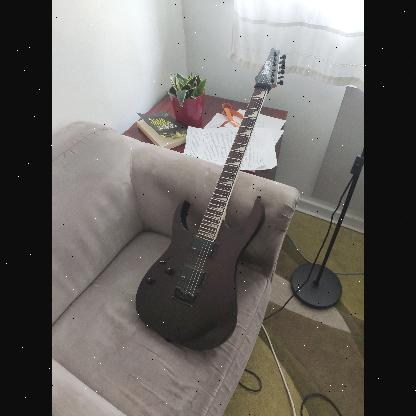guitar: (134, 46, 286, 352)
